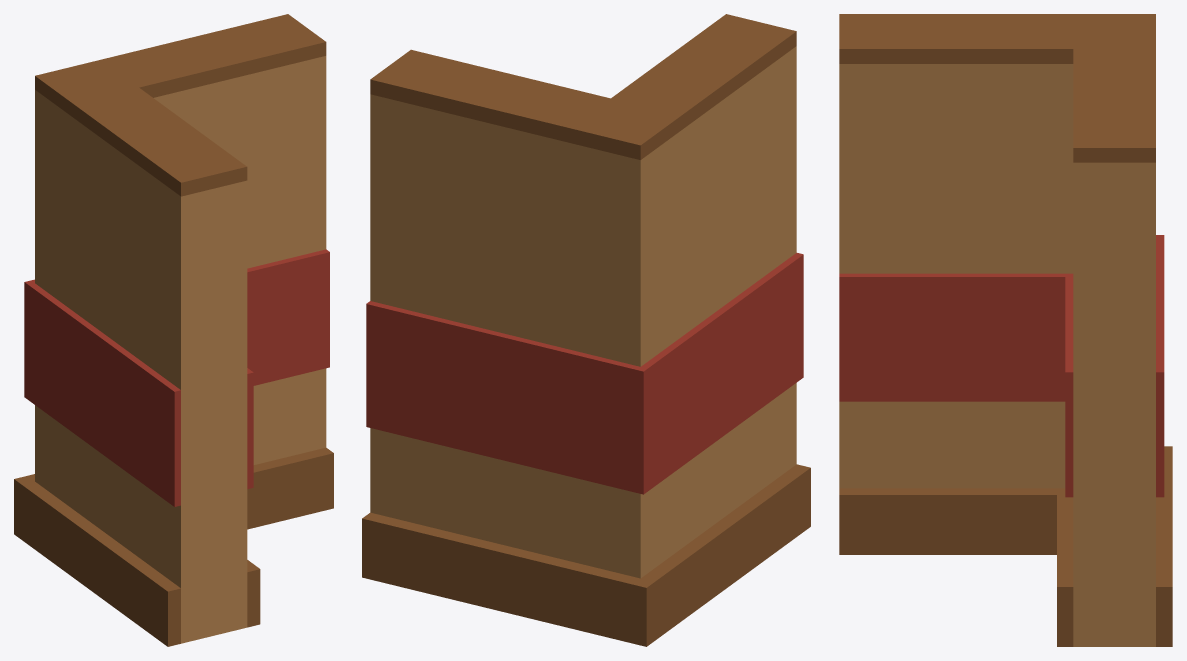
Rendered from partition-full-elbow.glb.
3 renders of one model, left to right at view 1: azimuth 30°, elevation 25°; view 2: azimuth 150°, elevation 25°; view 3: azimuth 270°, elevation 25°, orthographic. The views are drawn at different scales.
Parts seen in each view (by area): view 1: partition-full-elbow; view 2: partition-full-elbow; view 3: partition-full-elbow.
Part boxes in pixels (left/top/right/bottom): partition-full-elbow: left=14, top=14, right=333, bottom=646; partition-full-elbow: left=362, top=14, right=810, bottom=646; partition-full-elbow: left=839, top=14, right=1172, bottom=646.
Bounding box in the file's own units: 0.605 × 1 × 0.605.
1 material, 1 textured.
